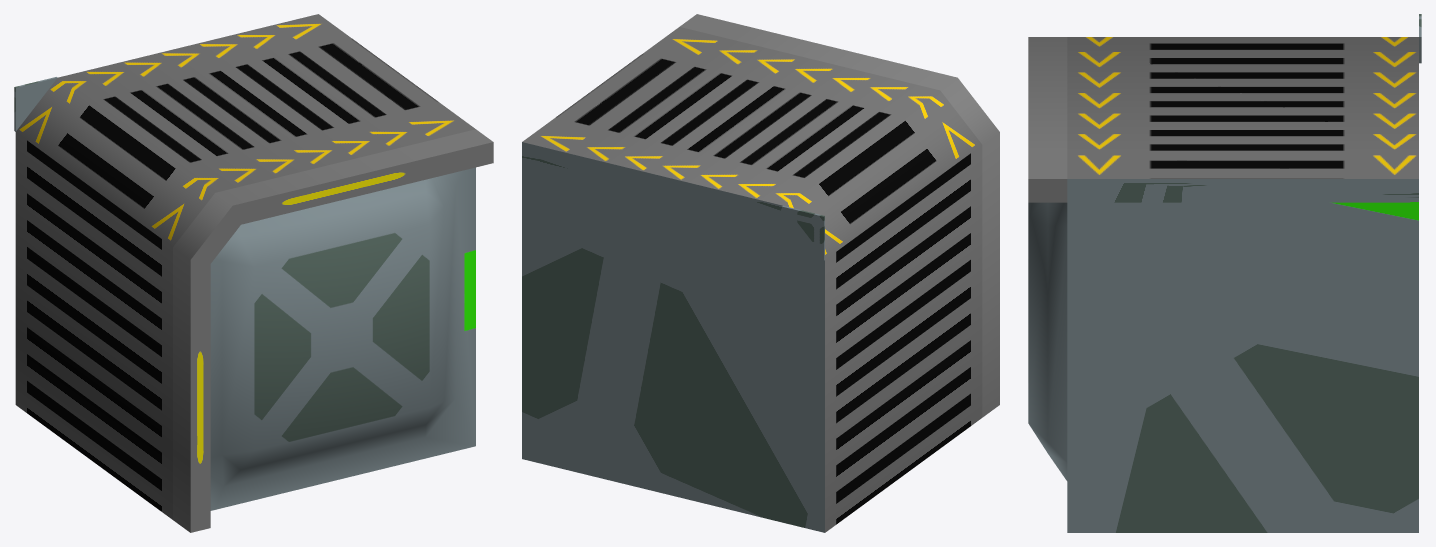
Rendered from RigthTop.fbx.
3 renders of one model, left to right at view 1: azimuth 30°, elevation 25°; view 2: azimuth 150°, elevation 25°; view 3: azimuth 270°, elevation 25°, orthographic. The views are drawn at different scales.
Parts seen in each view (by area): view 1: geo1; view 2: geo1; view 3: geo1.
Boxes of the visible parts, box(x1,y1,x2,y2) form: geo1: box(14, 14, 493, 532); geo1: box(522, 14, 999, 532); geo1: box(1028, 14, 1421, 532).
Bounding box in the file's own units: 3 × 3 × 3.02.
